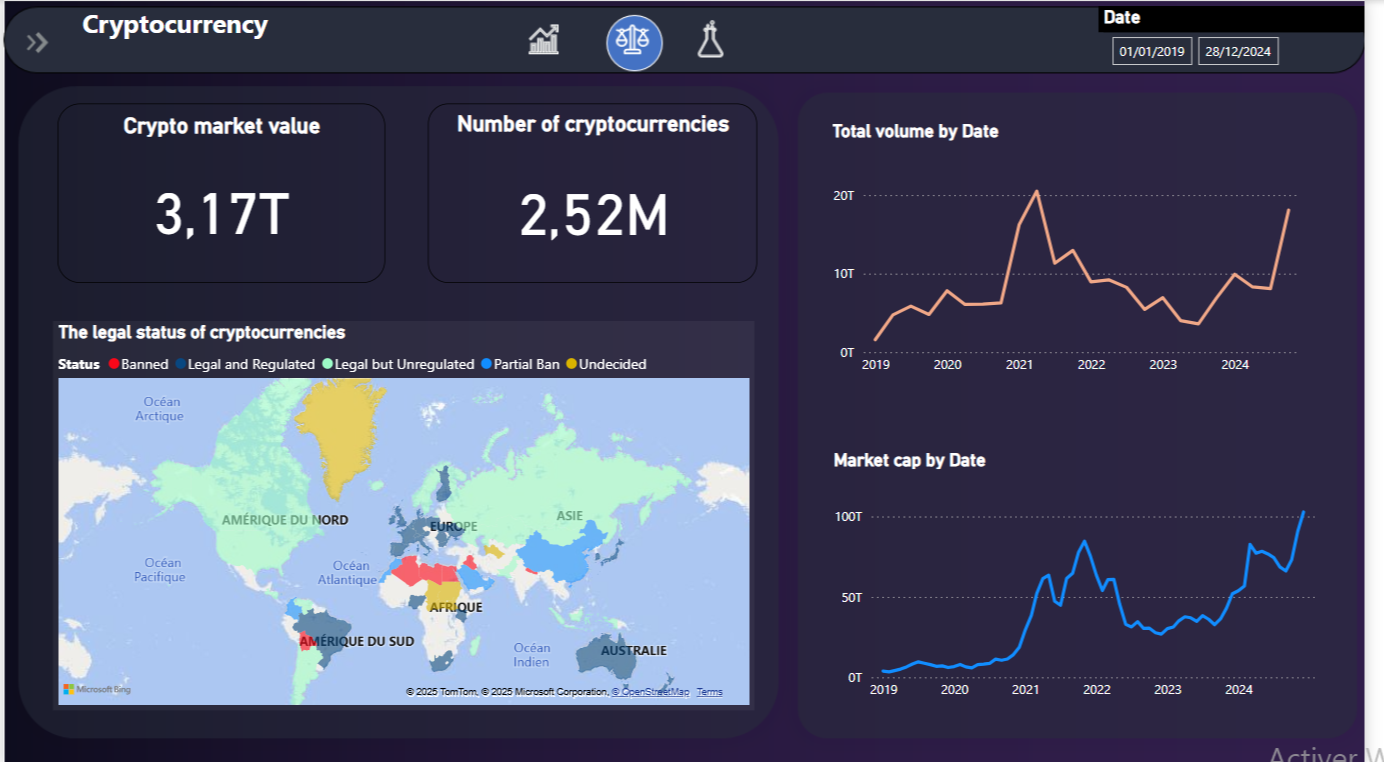

The dashboard page shown, as its layout file describes it:
{"tool":"powerbi","page":{"name":"Cyrptocurrency Dashboard","canvas":[1280,720],"ordinal":0},"visuals":[{"type":"textbox","box":[60.8,0,200.8,68.1],"z":0},{"type":"actionButton","box":[558,14.1,81.3,53.1],"z":1000},{"type":"actionButton","box":[640,14.6,66.9,53.5],"z":2000},{"type":"actionButton","box":[11,7.3,40.2,66.9],"z":3000},{"type":"filledMap","title":"The legal status of cryptocurrencies","fields":{"Category":["countries.Country"],"Series":["countries.Status"]},"box":[46.9,301.7,659.6,365.7],"z":4000},{"type":"lineChart","title":"Total volume by Date","fields":{"Category":["Global crypto market.snapped_at.Variation.Date Hierarchy.Year","Global crypto market.snapped_at.Variation.Date Hierarchy.Quarter","Global crypto market.snapped_at.Variation.Date Hierarchy.Month","Global crypto market.snapped_at.Variation.Date Hierarchy.Day"],"Y":["Sum(Global crypto market.total_volume)"]},"box":[773.7,112.1,451.6,247.9],"z":5000},{"type":"lineChart","title":"Market cap by Date","fields":{"Category":["Global crypto market.snapped_at.Variation.Date Hierarchy.Year","Global crypto market.snapped_at.Variation.Date Hierarchy.Quarter","Global crypto market.snapped_at.Variation.Date Hierarchy.Month","Global crypto market.snapped_at.Variation.Date Hierarchy.Day"],"Y":["Sum(Global crypto market.market_cap)"]},"box":[775.3,421.6,464.2,244.7],"z":6000},{"type":"slicer","title":"Date","fields":{"Values":["Global crypto market.snapped_at"]},"box":[1028.9,6.3,251.1,67.9],"z":7000},{"type":"card","title":"Crypto market value","fields":{"Values":["Key Measures.crypto market value"]},"box":[50.5,97.9,307.9,168.9],"z":8000},{"type":"card","title":"Number of cryptocurrencies","fields":{"Values":["Key Measures.Total number of crypto"]},"box":[399.5,97.9,309.5,168.9],"z":9000}]}

Visuals, with their boxes in screenshot pixels (x1, y1, x2, y2), scaled from the page's 1280x720 canvas onto the 1384x762 screenshot:
textbox: detection(66, 0, 283, 72)
actionButton: detection(603, 15, 691, 71)
actionButton: detection(692, 15, 764, 72)
actionButton: detection(12, 8, 55, 79)
"The legal status of cryptocurrencies" filledMap: detection(51, 319, 764, 706)
"Total volume by Date" lineChart: detection(837, 119, 1325, 381)
"Market cap by Date" lineChart: detection(838, 446, 1340, 705)
"Date" slicer: detection(1112, 7, 1383, 79)
"Crypto market value" card: detection(55, 104, 388, 282)
"Number of cryptocurrencies" card: detection(432, 104, 767, 282)
